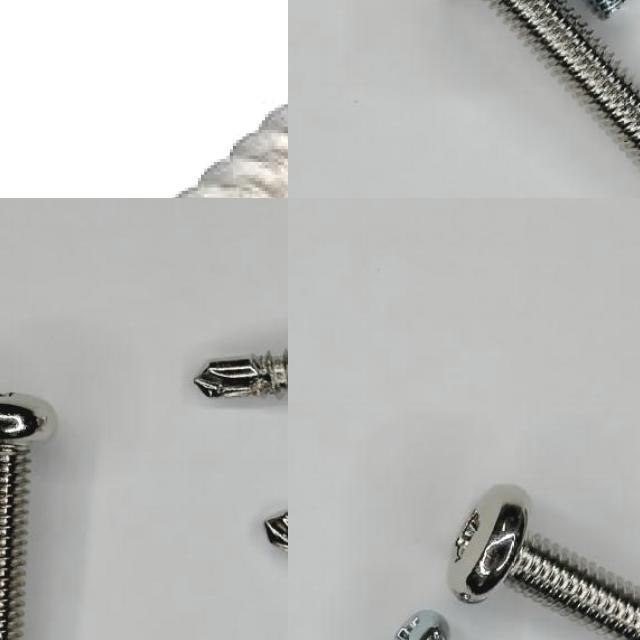Screw: (449, 485, 640, 640), (489, 0, 640, 162), (0, 393, 56, 640), (194, 352, 288, 397), (395, 612, 450, 640), (397, 612, 449, 640)
